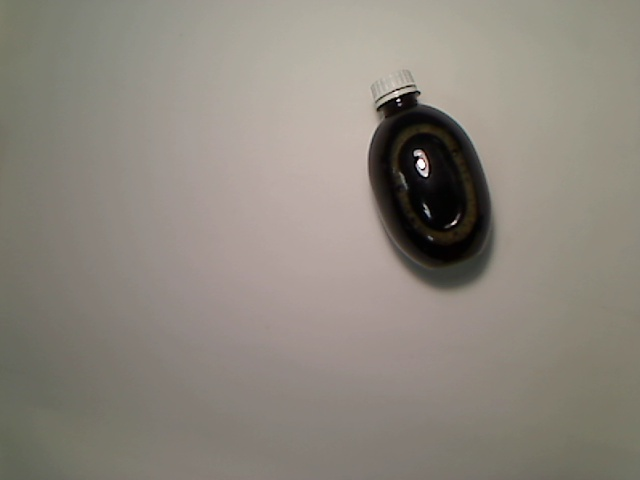plast_bottle: (365, 67, 496, 273)
